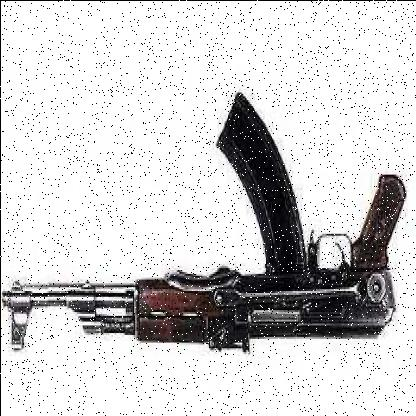rifle: (2, 90, 399, 357)
